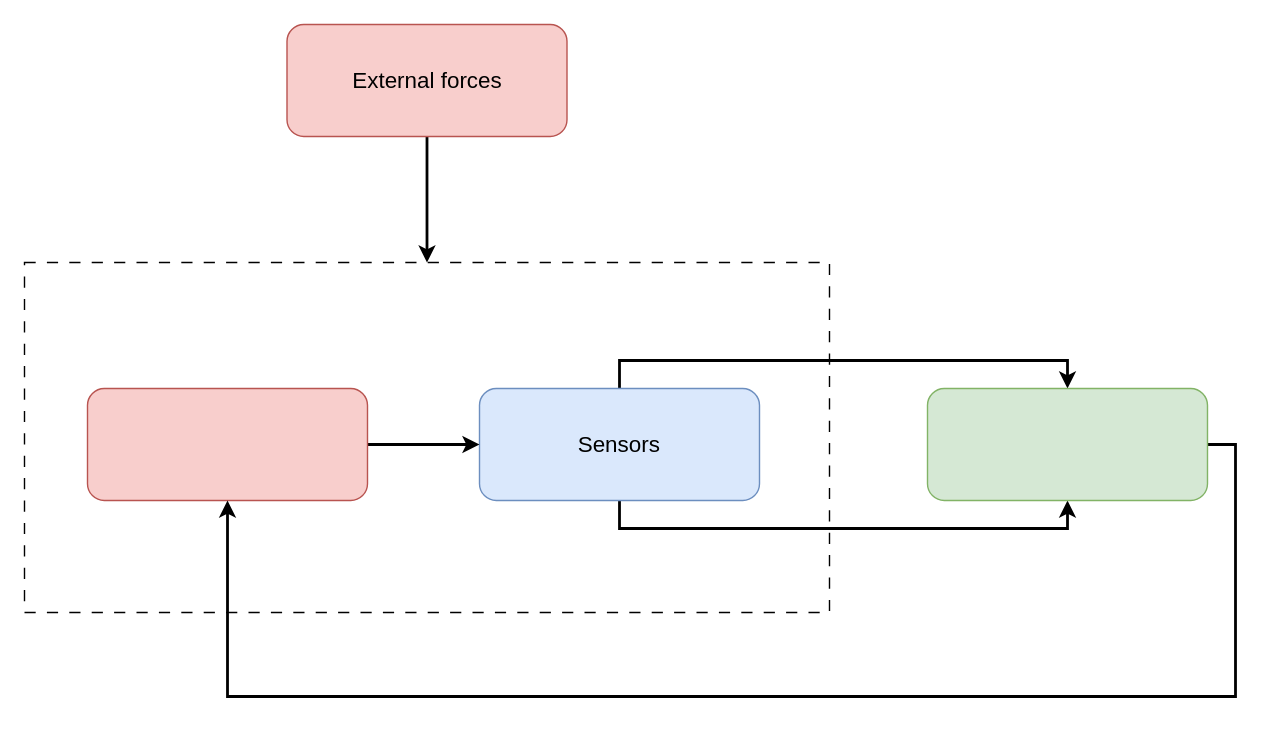
Image size: 1273x734. Some labels were removed from this diagram. The centre of each missing label's shape, as x and y in pixels:
FPGA: point (227, 443)
Kalman filter: point (1067, 443)
